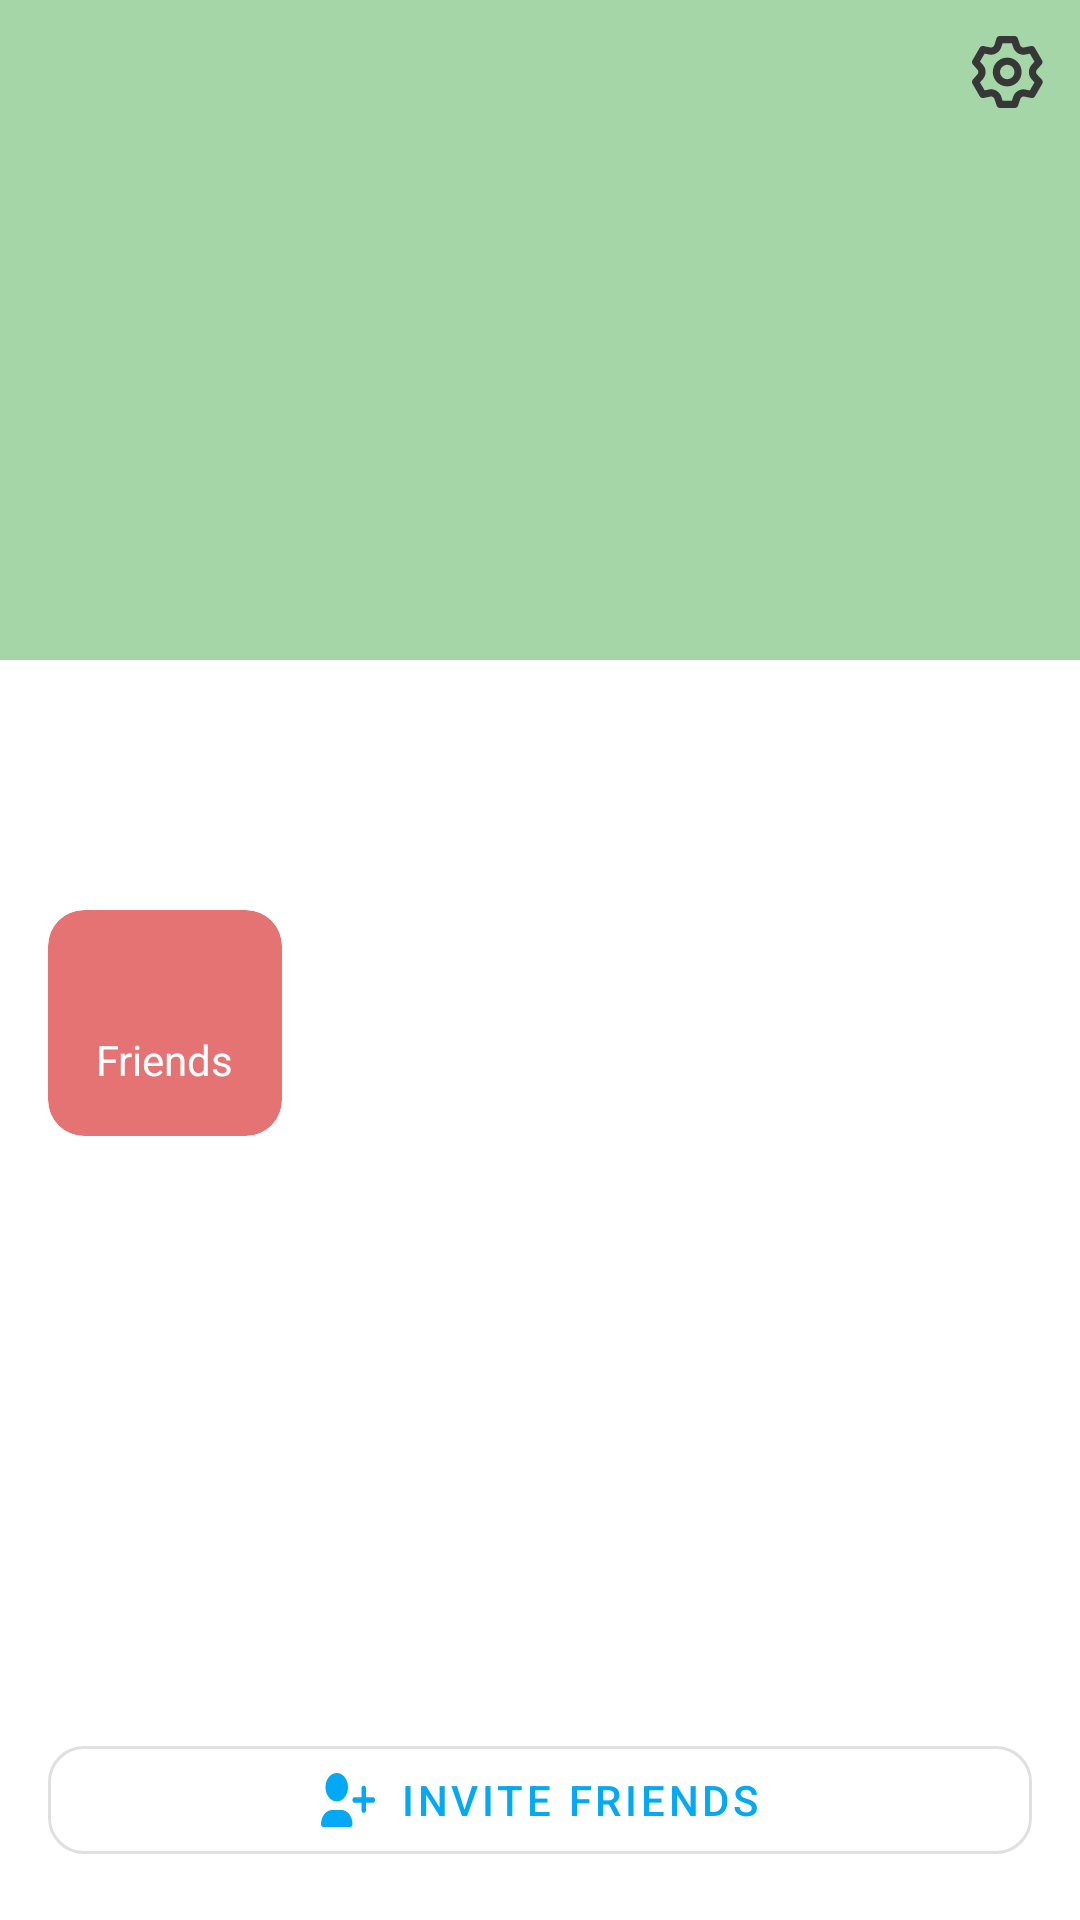

Screen size 1080px x 1920px. Icon name, then its box in pixels as (x1=x1, y1=y1, x2=x2, y2=y2):
settings: (x1=972, y1=36, x2=1043, y2=108)
